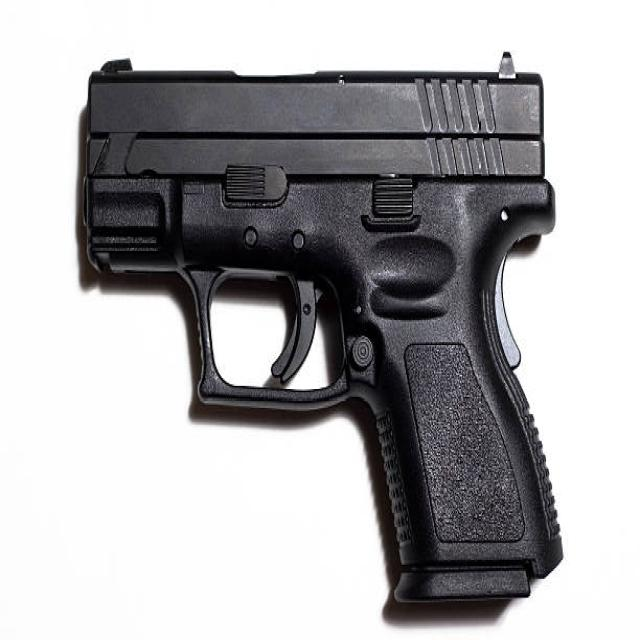pistol: (71, 42, 571, 612)
